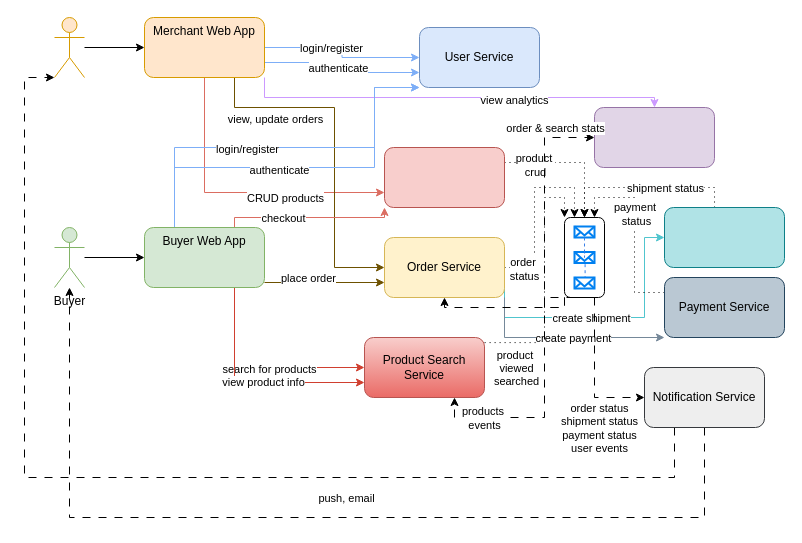
Some shapes in this 802 by 543 pixel diagram are drawn without their labels. The shapes that lost their labels are listed below. From the top down, each one's centre as x and y in pixels, then its label:
[69,47]: Merchant
[654,137]: Analytics Service
[444,177]: Product Service
[724,237]: Shipment Service
